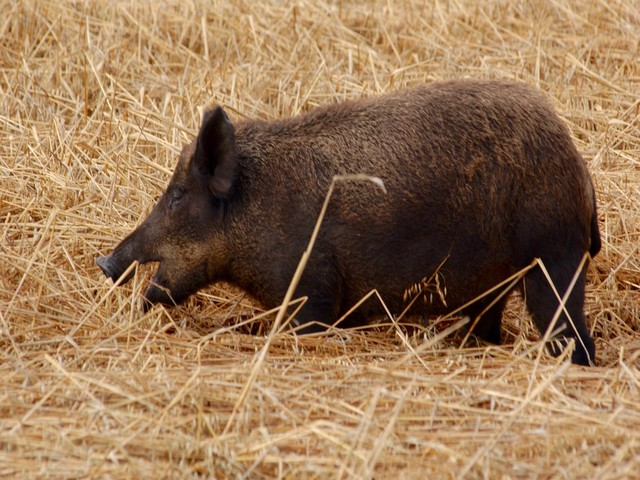Pig: (96, 77, 623, 354)
